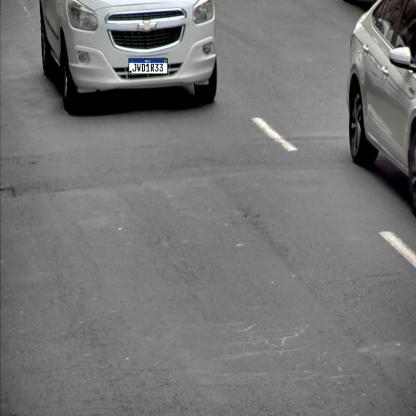PlacaM: (128, 58, 168, 74)
